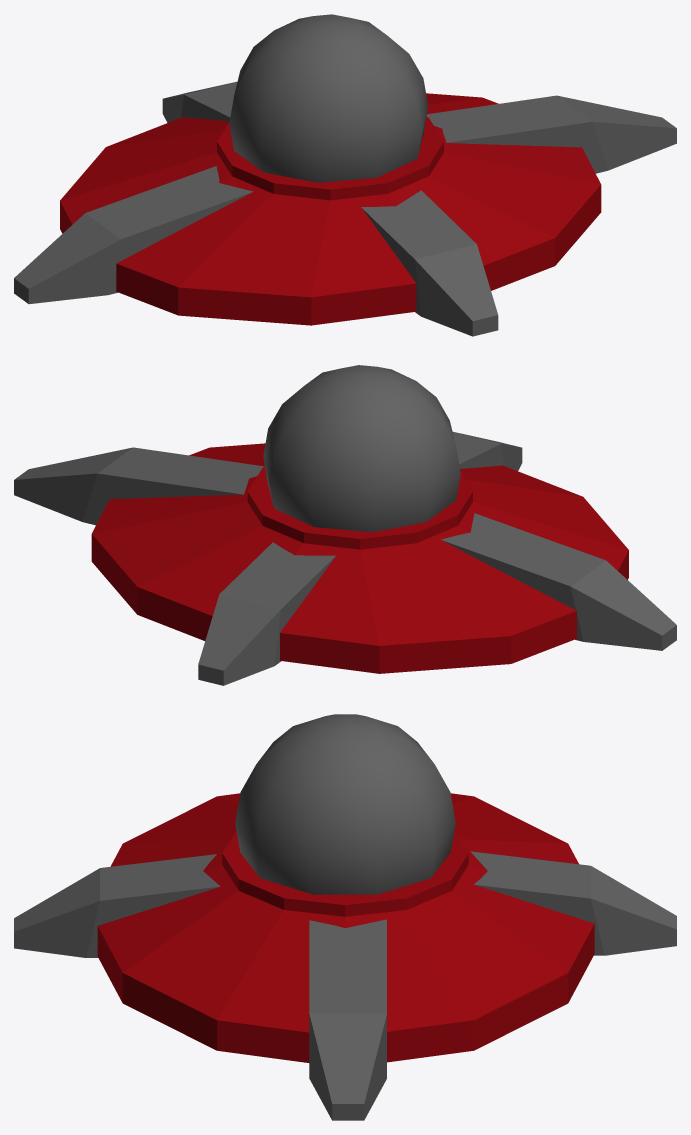
The model's file is Turret_Base.fbx.
The picture shows the model from 3 angles, top to bottom: view 1: azimuth 30°, elevation 25°; view 2: azimuth 150°, elevation 25°; view 3: azimuth 270°, elevation 25°; orthographic projection. The views are drawn at different scales.
Visible parts, largest first — view 1: Turret Base, Turret Joint, Turret Support Front, Turret Support Rear, Turret Support R.001, Turret Support R; view 2: Turret Base, Turret Joint, Turret Support Front, Turret Support Rear, Turret Support R, Turret Support R.001; view 3: Turret Base, Turret Joint, Turret Support Rear, Turret Support R.001, Turret Support R.
Boxes of the visible parts, x1,y1,x2,y2 form: Turret Base: (60, 93, 601, 325); Turret Joint: (229, 14, 428, 182); Turret Support Front: (14, 166, 253, 304); Turret Support Rear: (426, 95, 676, 173); Turret Support R.001: (361, 190, 498, 336); Turret Support R: (162, 81, 237, 122); Turret Base: (91, 443, 628, 673); Turret Joint: (263, 365, 460, 532); Turret Support Front: (441, 513, 676, 650); Turret Support Rear: (14, 447, 264, 525); Turret Support R: (198, 542, 335, 685); Turret Support R.001: (452, 432, 522, 470); Turret Base: (97, 793, 594, 1062); Turret Joint: (235, 714, 455, 894); Turret Support Rear: (309, 919, 386, 1120); Turret Support R.001: (14, 854, 220, 957); Turret Support R: (470, 851, 676, 955).
Size of the model in its own units: 422 by 124 by 343.
